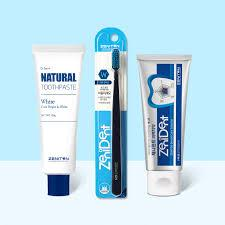toothpaste: (135, 54, 193, 209), (30, 40, 83, 200)
